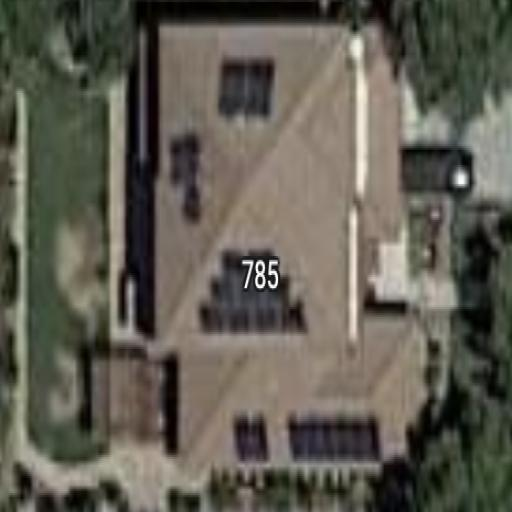Solar-Slope-Roof: (158, 27, 351, 341)
